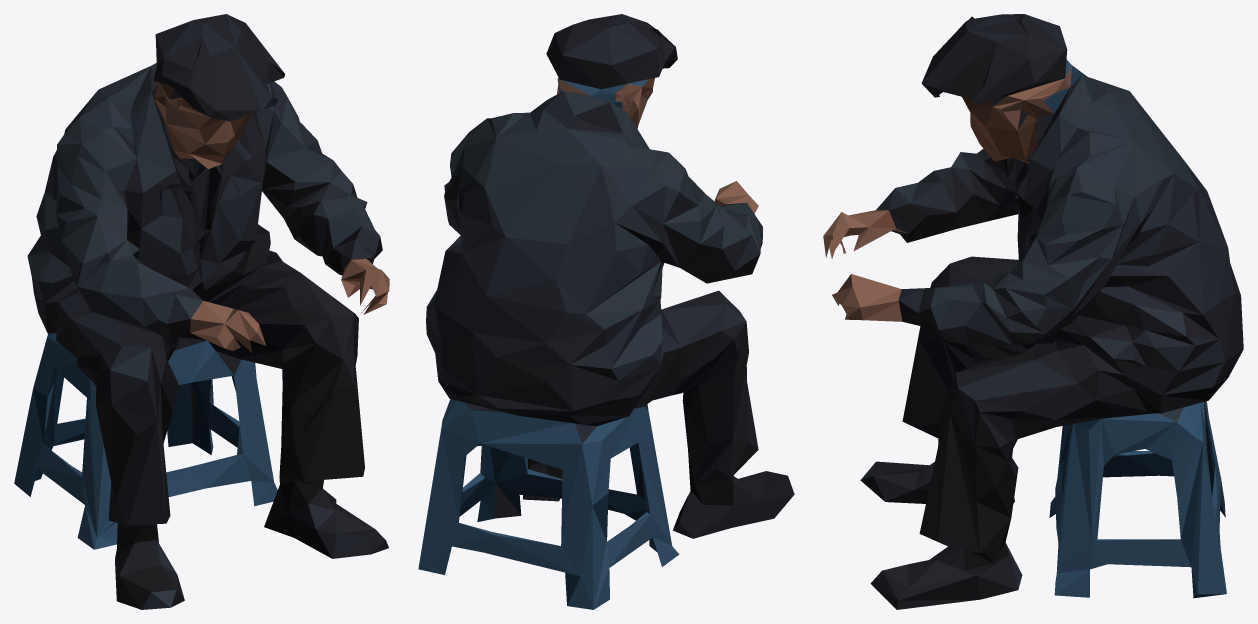
Rendered from sitter.glb.
3 renders of one model, left to right at view 1: azimuth 30°, elevation 25°; view 2: azimuth 150°, elevation 25°; view 3: azimuth 270°, elevation 25°, orthographic. The views are drawn at different scales.
Parts seen in each view (by area): view 1: sitter; view 2: sitter; view 3: sitter.
Boxes of the visible parts, left/top/right/bottom form: sitter: left=14, top=14, right=389, bottom=609; sitter: left=418, top=14, right=794, bottom=609; sitter: left=823, top=14, right=1243, bottom=609.
Size of the model in its own units: 0.7506 by 1.25 by 0.8897.
